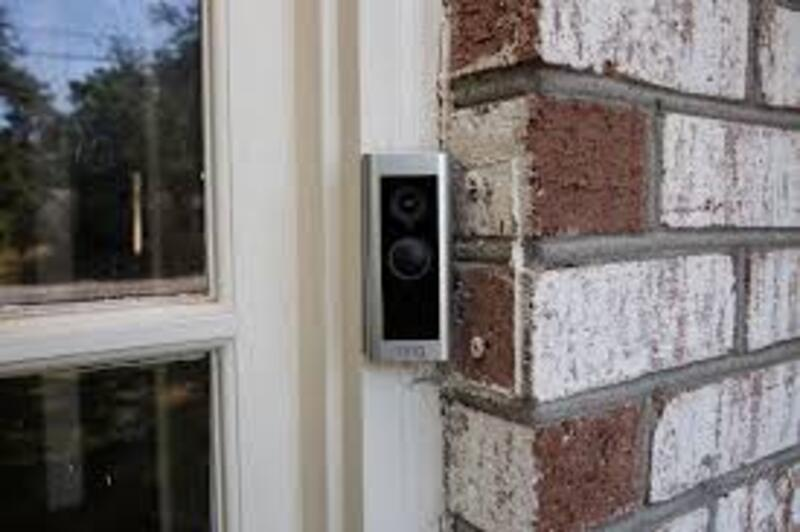doorbell: (354, 144, 451, 369)
